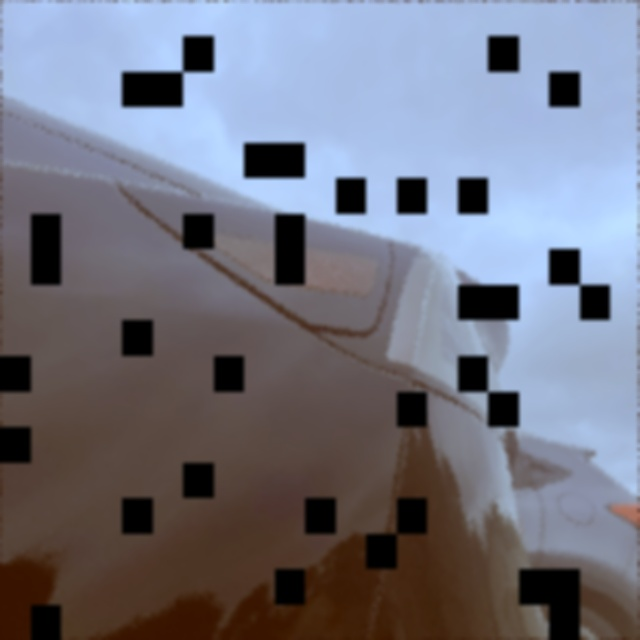reflector: (201, 233, 380, 295)
